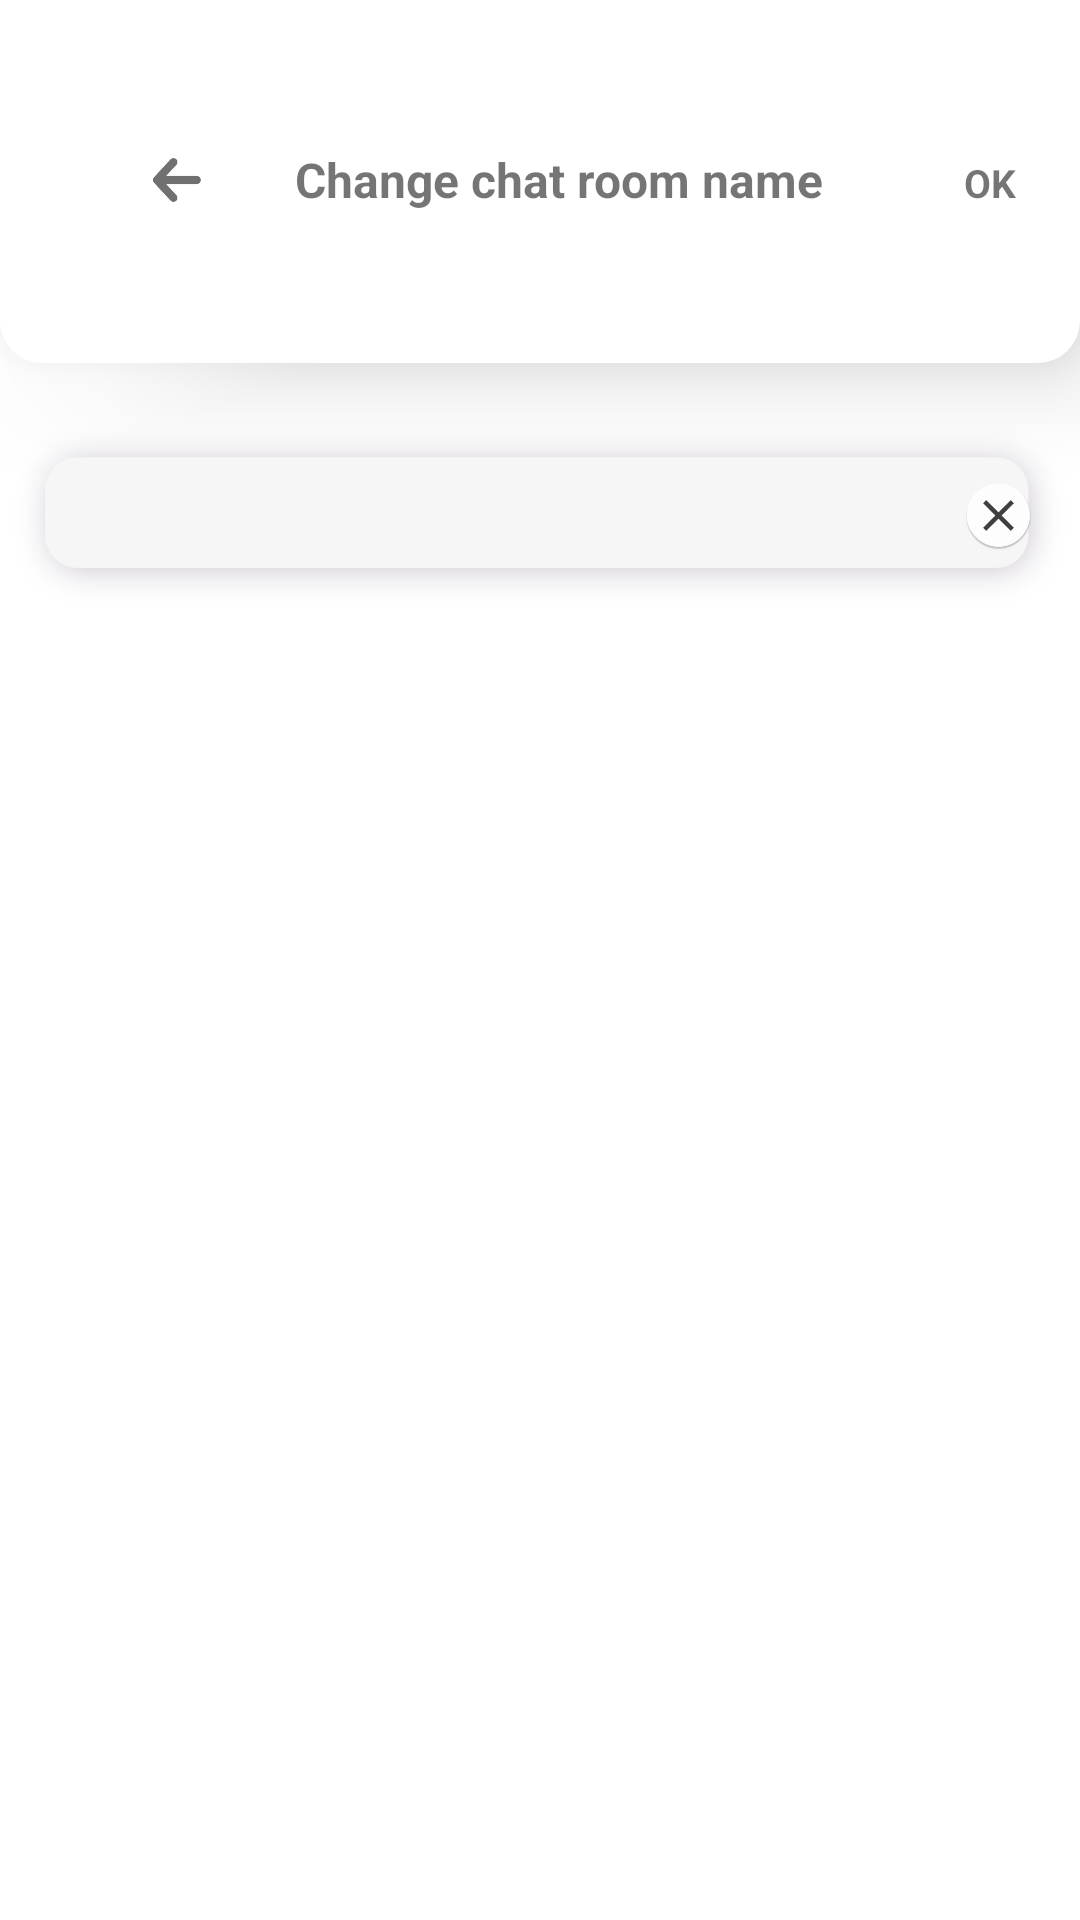

Where to tap for icons on this 1080px x 1920px app screen, as (x=x, y=y):
yj back: (x=177, y=180)
